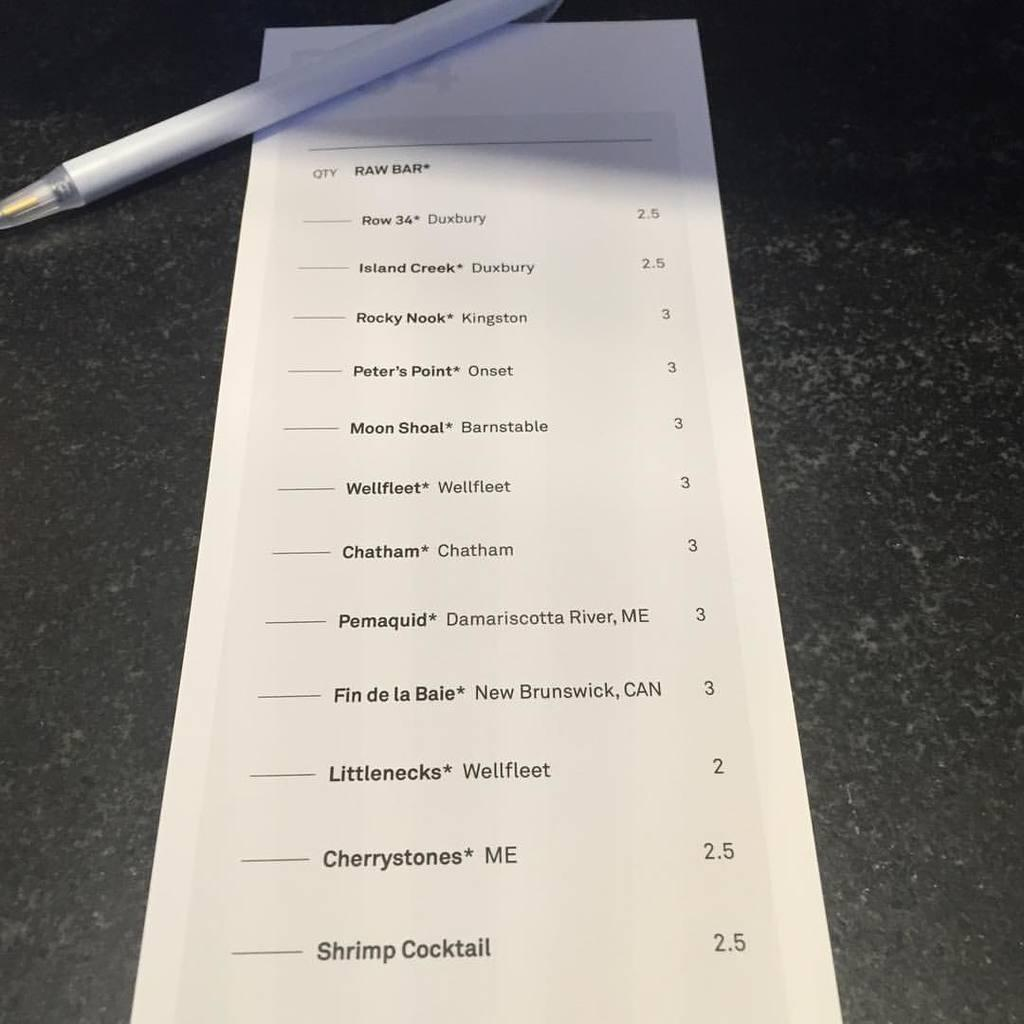pen: (0, 0, 547, 226)
